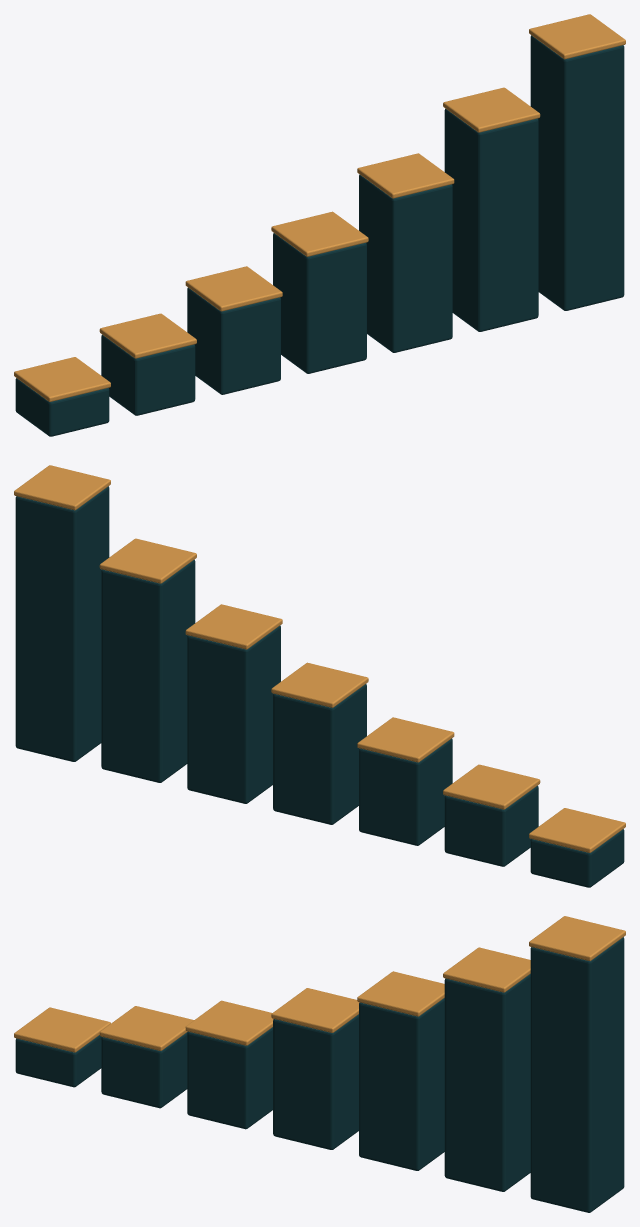
File: rising-ledger.glb
The picture shows the model from 3 angles, top to bottom: view 1: azimuth 30°, elevation 25°; view 2: azimuth 150°, elevation 25°; view 3: azimuth 330°, elevation 25°; orthographic projection.
Parts seen in each view (by area): view 1: Bar6, Bar5, Bar4, Bar3, Bar2, Bar1, Bar0, Cap2, Cap5, Cap1, Cap3, Cap4 (+2 smaller); view 2: Bar6, Bar5, Bar4, Bar3, Bar2, Bar1, Bar0, Cap2, Cap5, Cap1, Cap3, Cap4 (+2 smaller); view 3: Bar6, Bar5, Bar4, Bar3, Bar2, Bar1, Bar0, Cap6, Cap0, Cap1, Cap5, Cap4 (+2 smaller).
Boxes of the visible parts, box(x1,y1,x2,y2) form: Bar6: box(530, 35, 624, 310); Bar5: box(444, 108, 538, 331); Bar4: box(359, 174, 452, 352); Bar3: box(273, 233, 366, 373); Bar2: box(187, 287, 280, 394); Bar1: box(101, 334, 195, 415); Bar0: box(15, 378, 109, 436); Cap2: box(185, 266, 282, 311); Cap5: box(443, 87, 540, 132); Cap1: box(99, 313, 196, 358); Cap3: box(271, 211, 368, 256); Cap4: box(357, 153, 454, 198); Bar6: box(15, 486, 109, 761); Bar5: box(101, 559, 195, 782); Bar4: box(187, 625, 280, 803); Bar3: box(273, 684, 366, 824); Bar2: box(359, 738, 452, 845); Bar1: box(444, 785, 538, 866); Bar0: box(530, 829, 624, 887); Cap2: box(357, 717, 454, 762); Cap5: box(99, 538, 196, 583); Cap1: box(443, 764, 540, 809); Cap3: box(271, 662, 368, 707); Cap4: box(185, 604, 282, 649); Bar6: box(530, 937, 624, 1212); Bar5: box(444, 974, 530, 1191); Bar4: box(359, 998, 444, 1170); Bar3: box(273, 1014, 358, 1149); Bar2: box(187, 1027, 272, 1129); Bar1: box(101, 1032, 187, 1108); Bar0: box(15, 1035, 101, 1087); Cap6: box(529, 916, 625, 960); Cap0: box(14, 1007, 110, 1052); Cap1: box(99, 1006, 193, 1050); Cap5: box(443, 947, 530, 992); Cap4: box(357, 971, 444, 1016).
Bounding box in the file's own units: 8.07 × 3.45 × 0.87.
